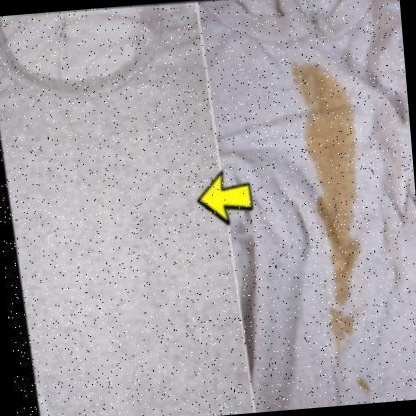coffee: (301, 71, 361, 226), (331, 232, 349, 292)
